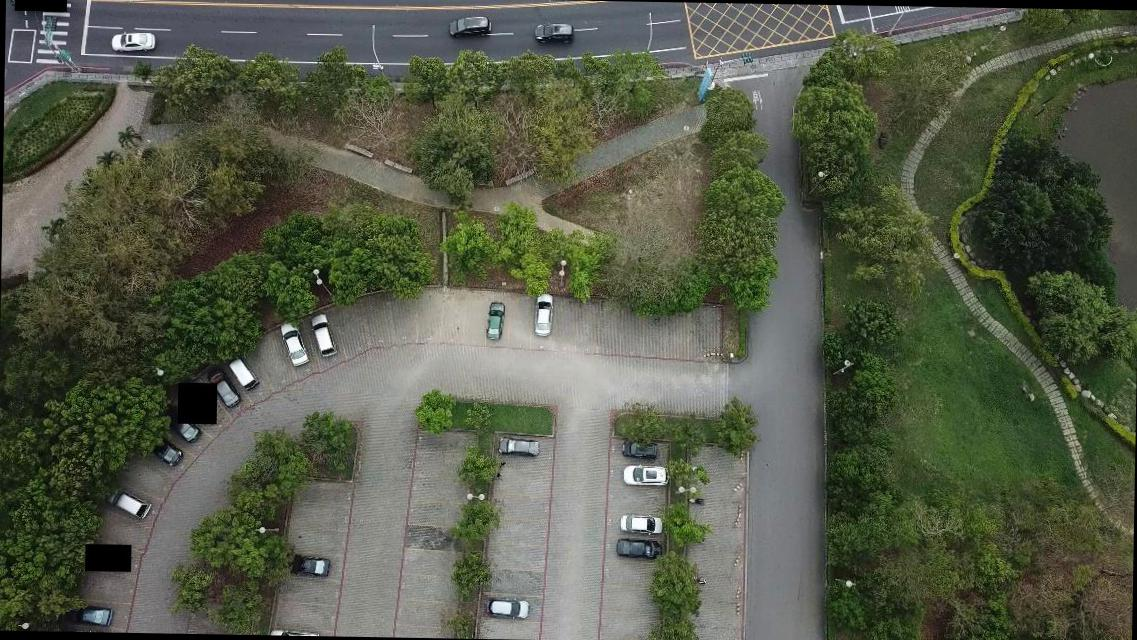vehicle: (105, 486, 152, 520), (162, 404, 200, 445), (206, 366, 242, 408), (278, 322, 311, 366), (620, 463, 670, 488), (228, 351, 258, 392), (485, 594, 532, 620), (63, 603, 115, 626), (310, 314, 338, 356), (615, 538, 664, 561), (448, 12, 491, 38), (280, 555, 330, 577), (112, 30, 155, 54), (498, 438, 540, 460), (534, 292, 552, 338), (152, 436, 181, 464), (484, 300, 505, 338), (535, 22, 574, 42), (621, 439, 659, 459)
